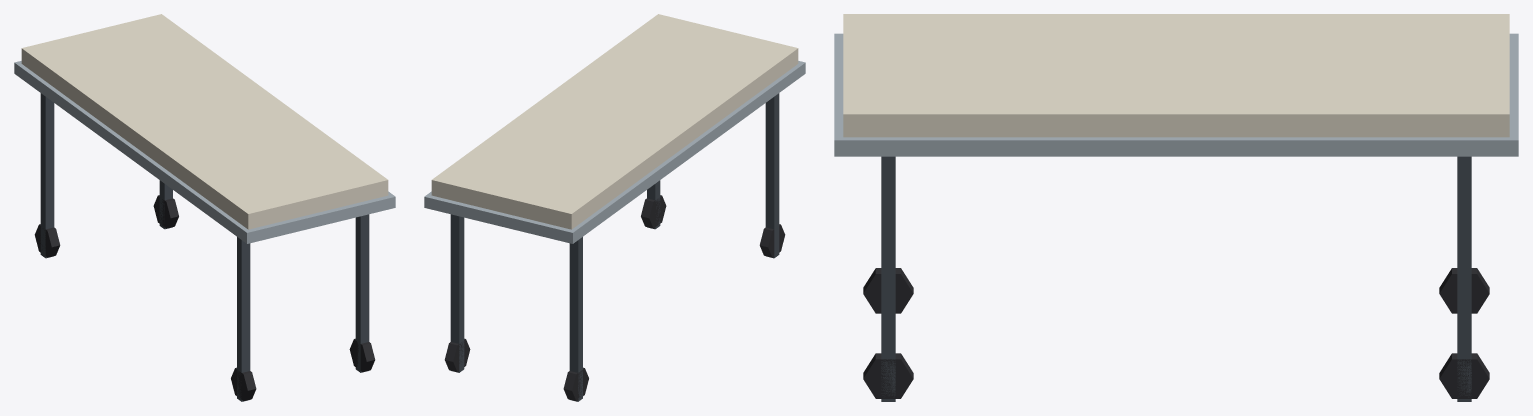
Rendered from GH_Gurney_01.glb.
3 renders of one model, left to right at view 1: azimuth 30°, elevation 25°; view 2: azimuth 150°, elevation 25°; view 3: azimuth 270°, elevation 25°, orthographic. The views are drawn at different scales.
Parts seen in each view (by area): view 1: GH_Gurney_01; view 2: GH_Gurney_01; view 3: GH_Gurney_01.
Boxes of the visible parts, x1,y1,x2,y2 form: GH_Gurney_01: [14, 14, 395, 401]; GH_Gurney_01: [424, 14, 805, 401]; GH_Gurney_01: [834, 14, 1518, 401].
Size of the model in its own units: 0.7 by 0.895 by 1.9.
Materials: 1 (1 with a texture image).
